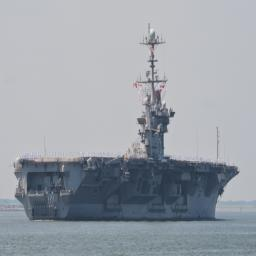Portanaves: (11, 22, 242, 223)
